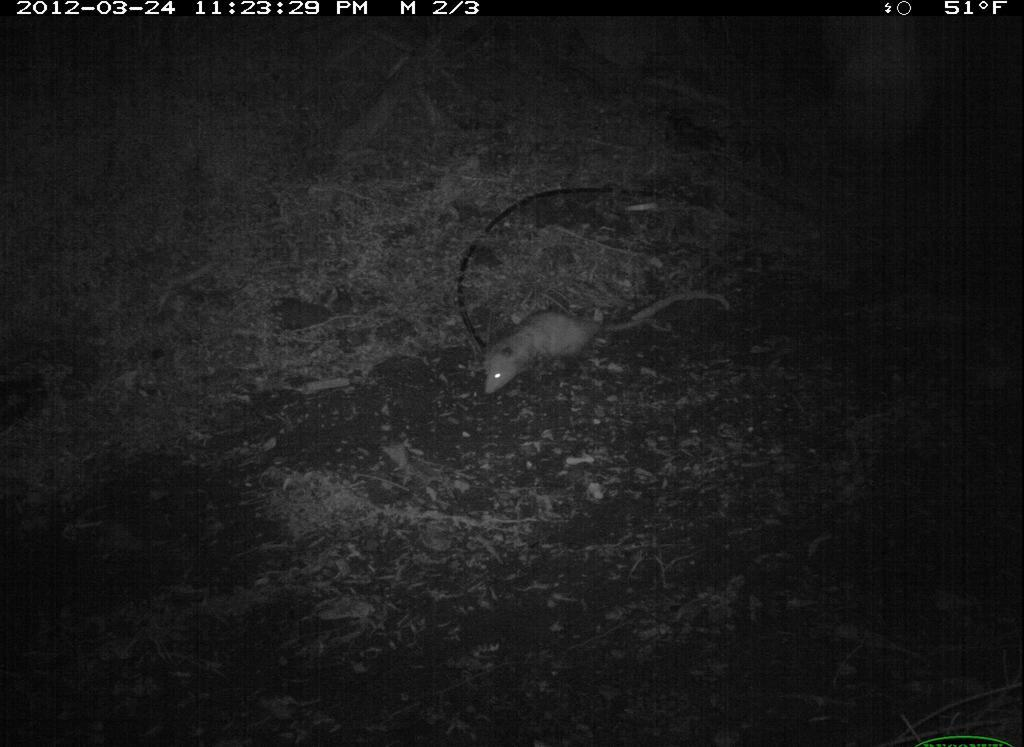opossum: (477, 296, 666, 406)
